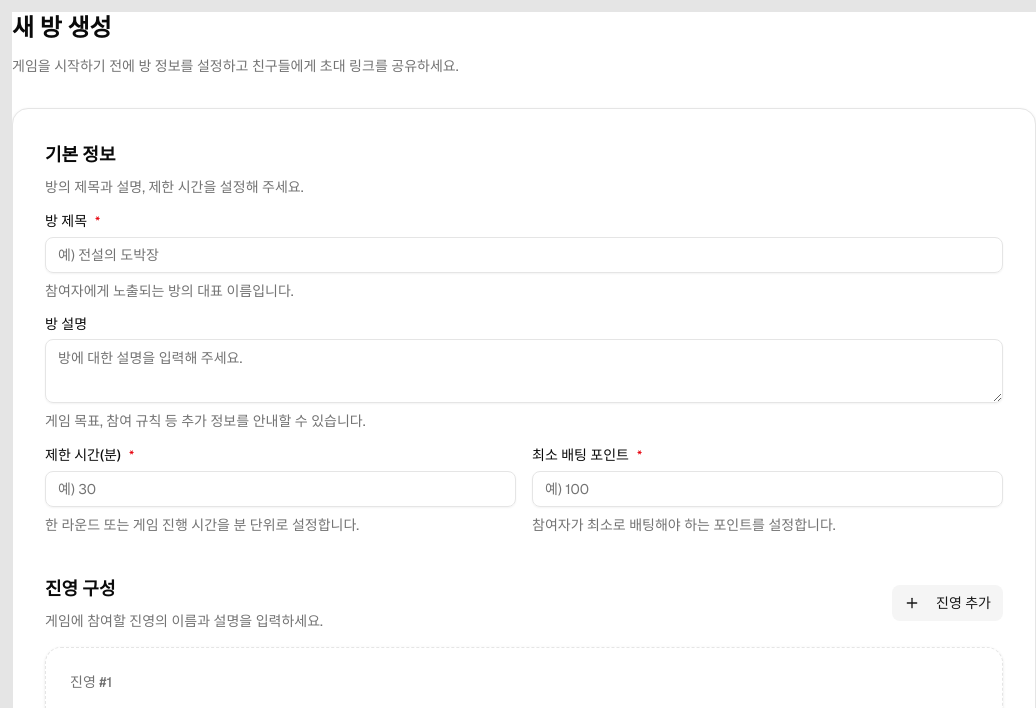
CreateRoomPanel › 진영을 추가하고 제거할 수 있다
This screenshot has width=1036, height=708.
Expected: the text "진영 #1" is shown once, [70, 672, 112, 692]
Click the button "진영 추가".
click(948, 603)  # box [892, 585, 1003, 621]
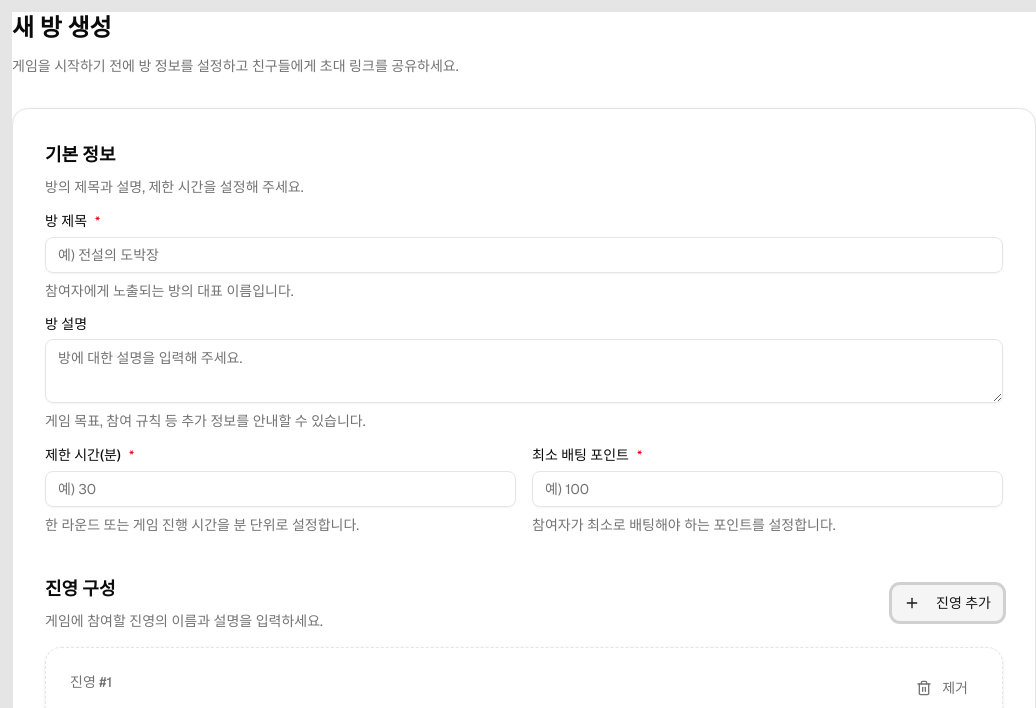
Expected: the text "진영 #1" is shown 2 times
Click the button "제거".
click(942, 688)  # box [906, 672, 978, 704]
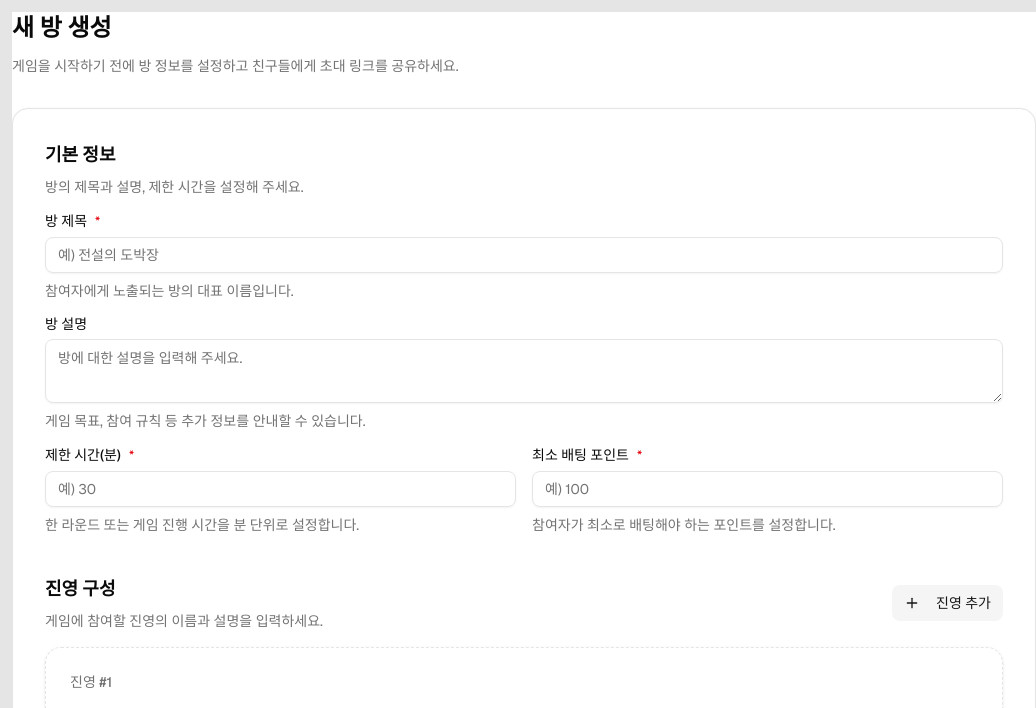
Expected: the text "진영 #1" is shown once, [70, 672, 112, 692]
